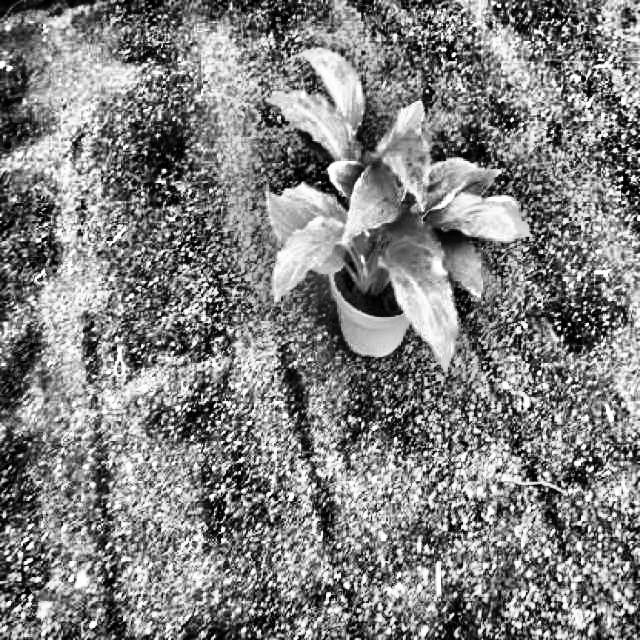plants: (254, 42, 536, 398)
